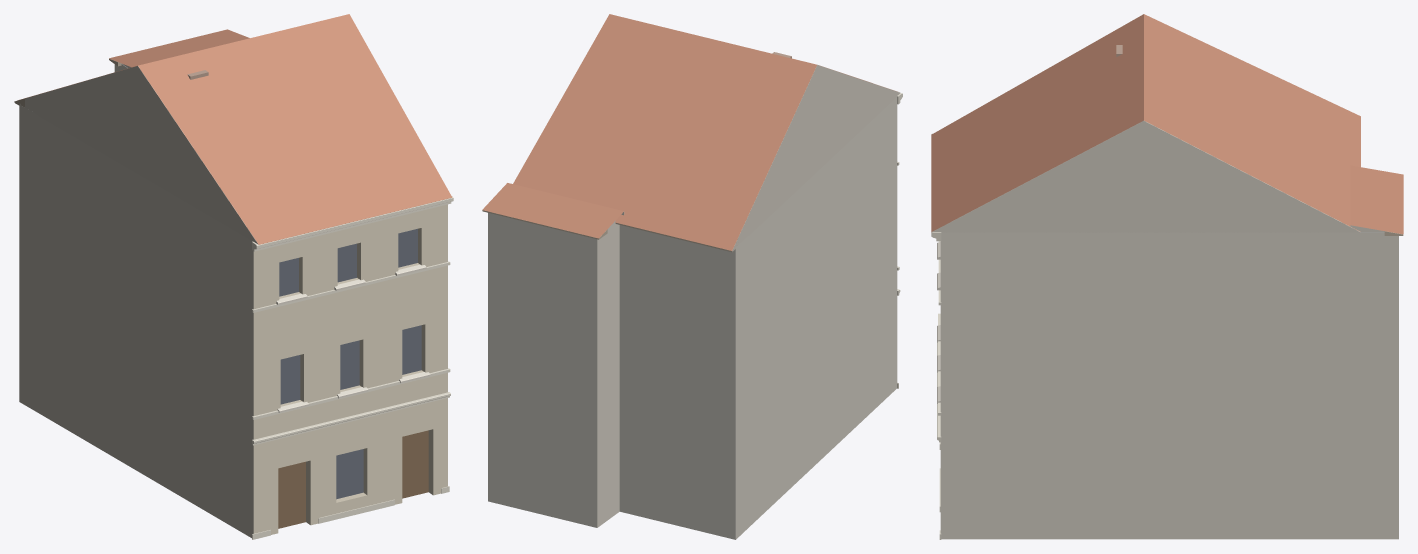
3 views of the same model, side by side, from view 1: azimuth 30°, elevation 25°; view 2: azimuth 150°, elevation 25°; view 3: azimuth 270°, elevation 25° (orthographic). The views are drawn at different scales.
Parts seen in each view (by area): view 1: CP_475_Masonry, CP_475_Roof, CP_475_Gable_L_gable, CP_475_WingRoof_Rear, CP_475_Cornice_main_0, CP_475_Cornice_string_0, CP_475_Cornice_band_0, CP_475_Cornice_sill1_0; view 2: CP_475_Masonry, CP_475_Roof, CP_475_Gable_L_gable, CP_475_WingRoof_Rear; view 3: CP_475_Masonry, CP_475_Roof, CP_475_Gable_R_gable, CP_475_WingRoof_Rear.
Boxes of the visible parts, <box> form: CP_475_Masonry: <box>19,64,447,537</box>; CP_475_Roof: <box>17,14,452,244</box>; CP_475_Gable_L_gable: <box>14,66,264,244</box>; CP_475_WingRoof_Rear: <box>109,29,249,67</box>; CP_475_Cornice_main_0: <box>252,196,453,251</box>; CP_475_Cornice_string_0: <box>252,392,450,445</box>; CP_475_Cornice_band_0: <box>252,261,450,312</box>; CP_475_Cornice_sill1_0: <box>252,368,450,419</box>; CP_475_Masonry: <box>488,97,897,539</box>; CP_475_Roof: <box>513,14,897,250</box>; CP_475_Gable_L_gable: <box>724,65,900,251</box>; CP_475_WingRoof_Rear: <box>482,183,623,238</box>; CP_475_Masonry: <box>940,232,1398,539</box>; CP_475_Roof: <box>931,14,1360,231</box>; CP_475_Gable_R_gable: <box>931,120,1360,232</box>; CP_475_WingRoof_Rear: <box>1350,165,1403,234</box>.
Bounding box in the file's own units: 9.05 × 15 × 15.33.
